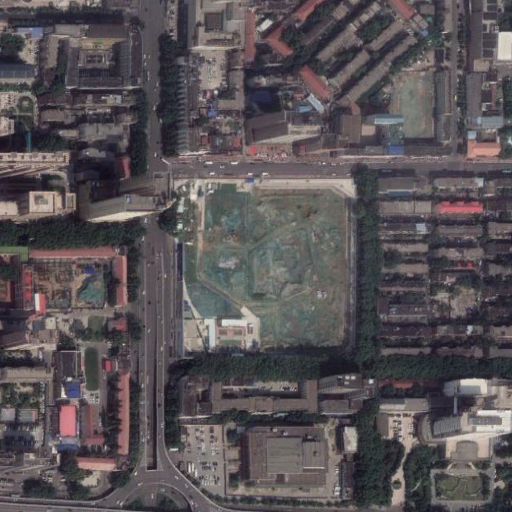cw: (182, 184, 348, 345), (399, 69, 435, 144)
